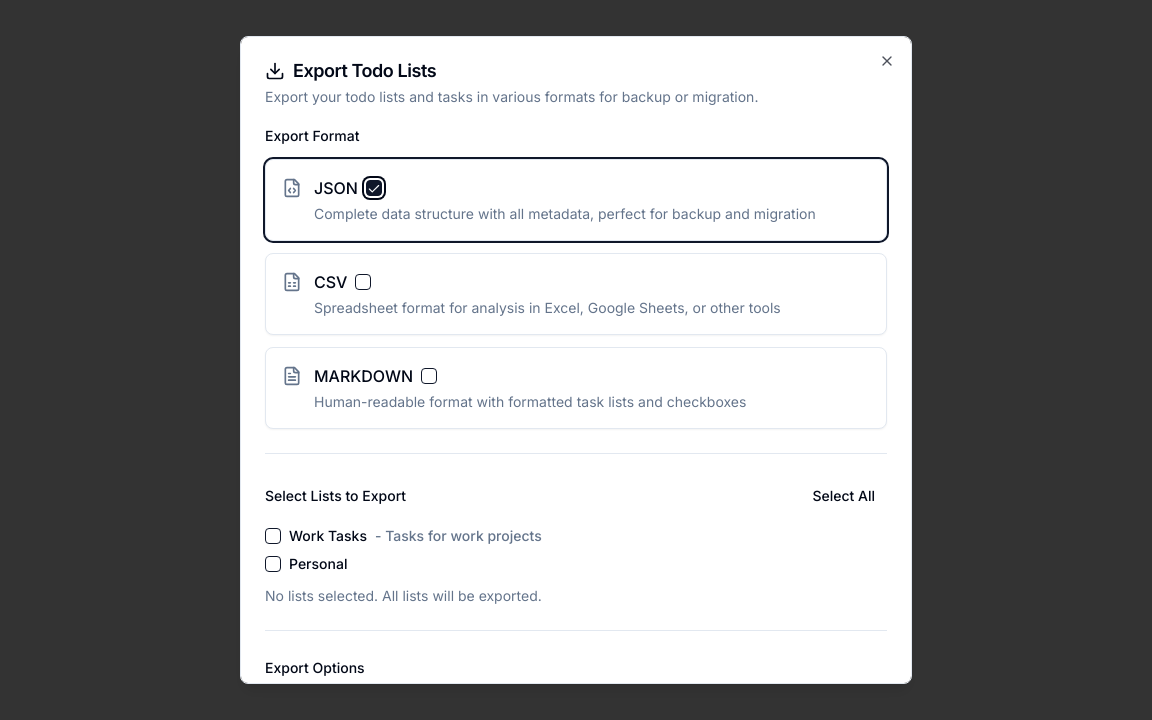
it: ExportDialog › handles select all functionality
Click the button "Select All" at (844, 496), box [800,478,887,514]
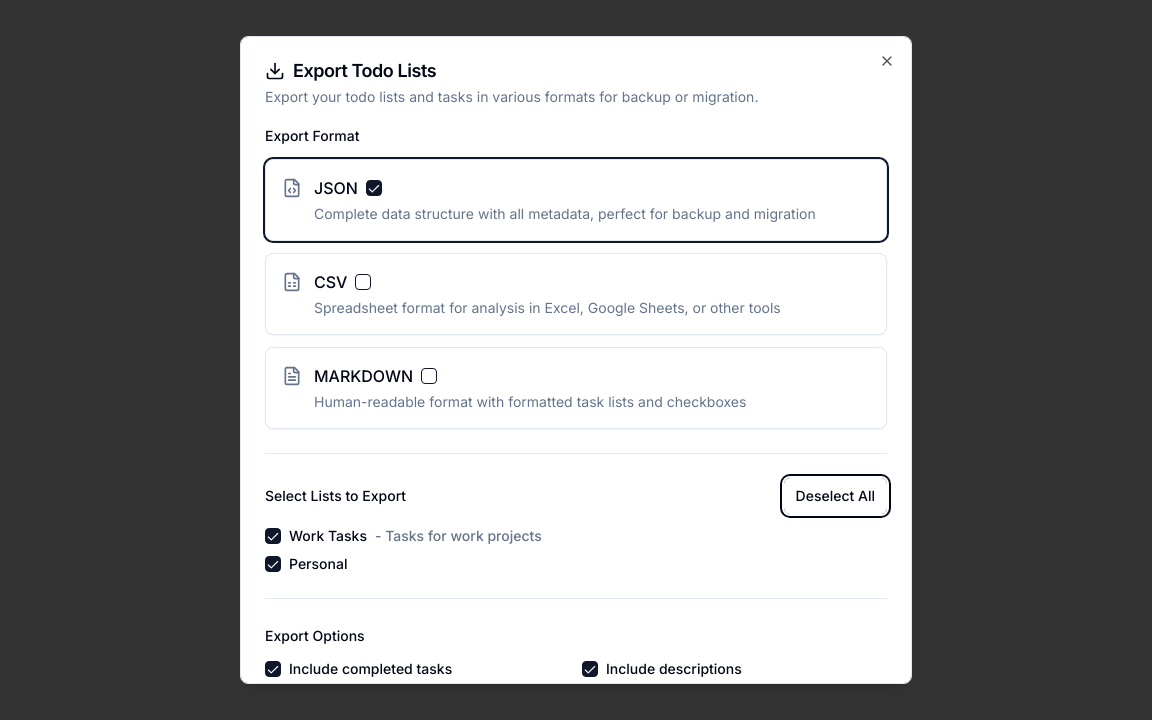
Expected: the checkbox named "Personal" next to "Personal" is checked, [265,556,281,572]
Expected: the button "Deselect All" is shown, [784,478,887,514]
